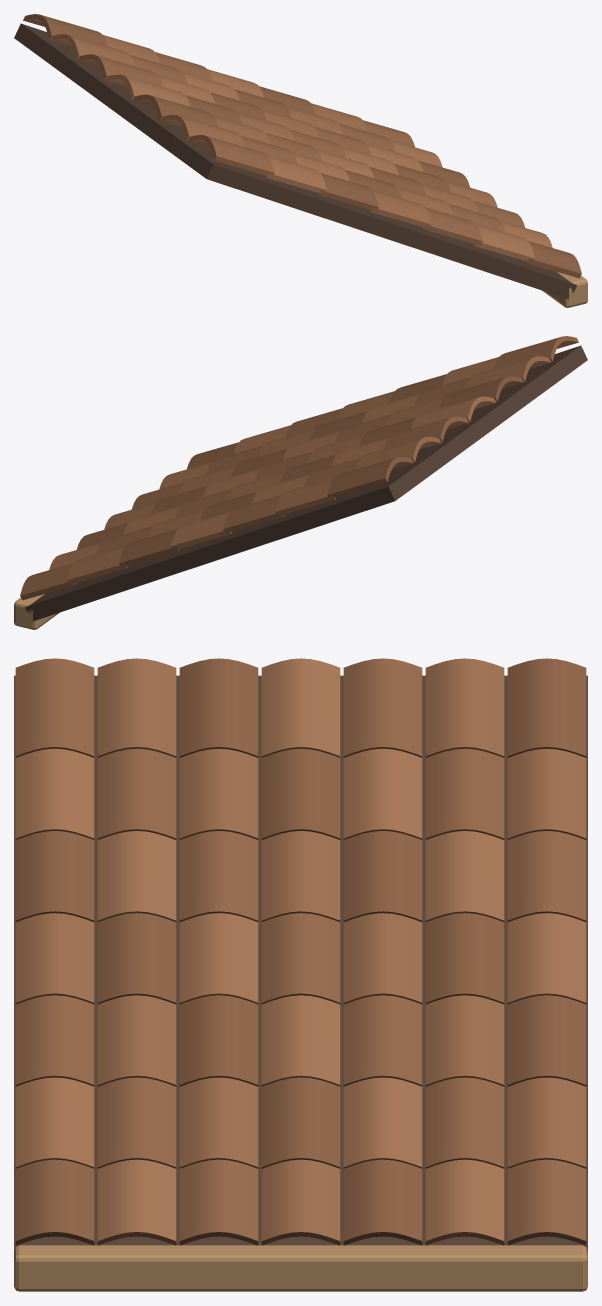
The model's file is roof_slope_timber_2m.glb.
The picture shows the model from 3 angles, top to bottom: view 1: azimuth 30°, elevation 25°; view 2: azimuth 150°, elevation 25°; view 3: azimuth 270°, elevation 25°; orthographic projection. The views are drawn at different scales.
Parts seen in each view (by area): view 1: roof_slope_timber_2m; view 2: roof_slope_timber_2m; view 3: roof_slope_timber_2m.
Boxes of the visible parts, x1,y1,x2,y2 form: roof_slope_timber_2m: (14, 14, 587, 307); roof_slope_timber_2m: (14, 336, 587, 629); roof_slope_timber_2m: (14, 658, 587, 1291).
Bounding box in the file's own units: 2.29 × 1.41 × 2.
